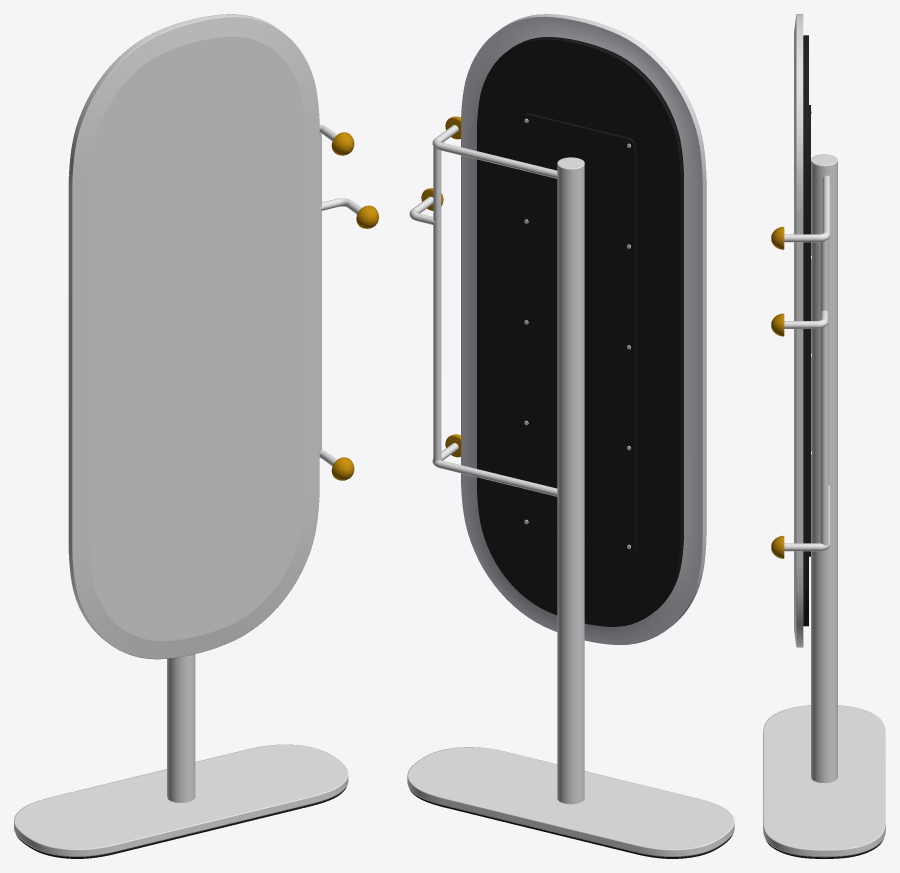
3 renders of one model, left to right at view 1: azimuth 30°, elevation 25°; view 2: azimuth 150°, elevation 25°; view 3: azimuth 270°, elevation 25°, orthographic. The views are drawn at different scales.
Parts seen in each view (by area): view 1: 7825; view 2: 7825; view 3: 7825.
Part boxes in pixels (<box>): 7825: <box>14,14,378,858</box>; 7825: <box>407,14,734,858</box>; 7825: <box>763,14,885,858</box>.
Bounding box in the file's own units: 0.7397 × 1.7 × 0.25.
Materials: 2 (1 with a texture image).
